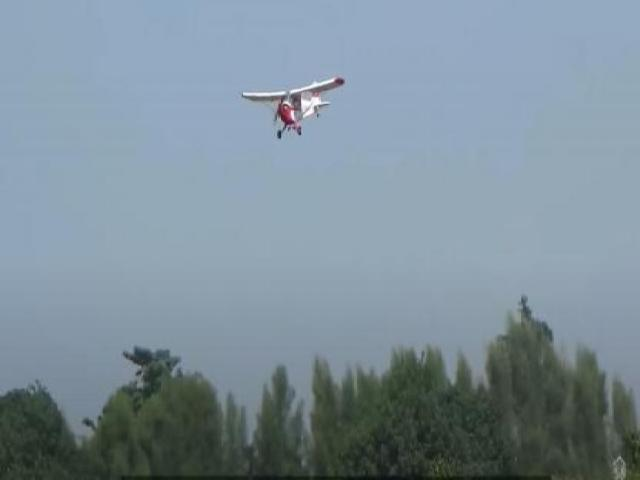uav: (239, 65, 350, 151)
